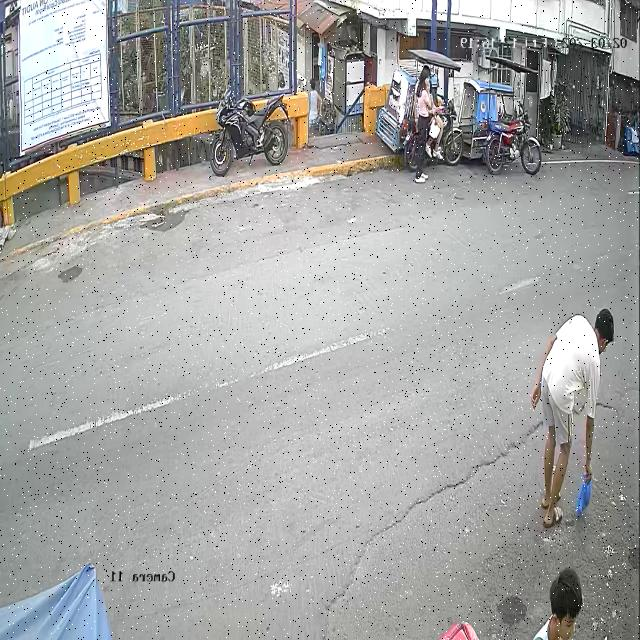human: (532, 306, 614, 528)
trash: (576, 473, 595, 520)
